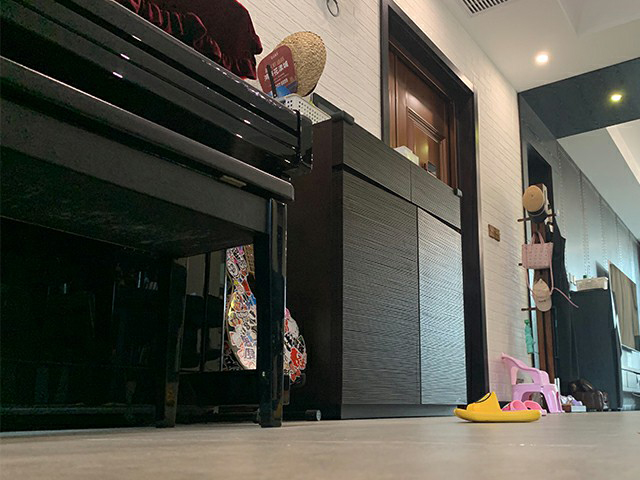cabinet: (291, 110, 467, 420)
slippers: (453, 390, 542, 424), (501, 399, 549, 413)
stool: (1, 53, 295, 429), (500, 351, 565, 414)
